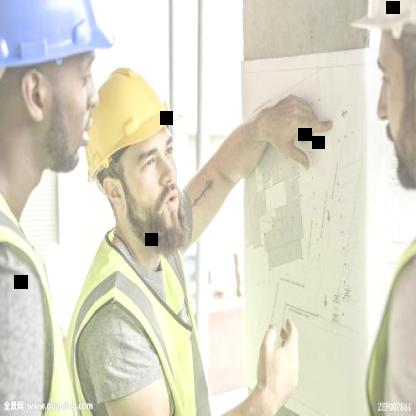helmet: (0, 0, 126, 199), (82, 50, 190, 254), (347, 0, 416, 206)
